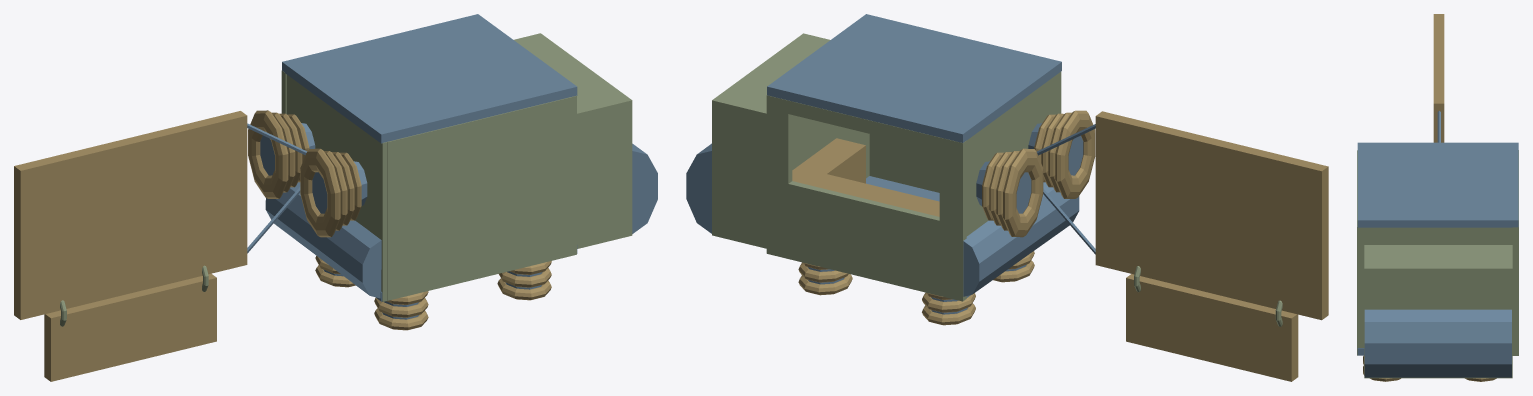
Rendered from food_truck_v11.fbx.
3 renders of one model, left to right at view 1: azimuth 30°, elevation 25°; view 2: azimuth 150°, elevation 25°; view 3: azimuth 270°, elevation 25°, orthographic. The views are drawn at different scales.
Parts seen in each view (by area): view 1: truck_sign_large, wall_B, roof, truck_sign_small, cab, wall_L, backbumper, tire_bot_2 (×2), tire_bot_1 (×4), tire_mid_1 (×3), frontbumper, wheel_well_1 (×2) (+2 smaller); view 2: truck_sign_large, wall_F, roof, truck_sign_small, cab, backbumper, tire_bot_2 (×2), wall_L, wall_B, tire_bot_1 (×4), counter_R, wall_R (+6 smaller); view 3: roof, frontbumper, cab, wall_R, truck_sign_large, wall_F.
Boxes of the visible parts, left/top/right/bottom form: truck_sign_large: left=14, top=111, right=247, bottom=319; wall_B: left=387, top=97, right=571, bottom=300; roof: left=282, top=14, right=577, bottom=143; truck_sign_small: left=44, top=273, right=216, bottom=381; cab: left=514, top=33, right=632, bottom=248; wall_L: left=286, top=75, right=388, bottom=301; backbumper: left=265, top=182, right=381, bottom=298; tire_bot_2 (×2): left=248, top=110, right=340, bottom=237; tire_bot_1 (×4): left=272, top=112, right=551, bottom=330; tire_mid_1 (×3): left=332, top=152, right=551, bottom=317; frontbumper: left=632, top=143, right=657, bottom=233; wheel_well_1 (×2): left=260, top=123, right=367, bottom=213; truck_sign_large: left=1095, top=111, right=1328, bottom=320; wall_F: left=766, top=95, right=966, bottom=301; roof: left=767, top=14, right=1061, bottom=142; truck_sign_small: left=1126, top=274, right=1298, bottom=381; cab: left=712, top=33, right=830, bottom=248; backbumper: left=963, top=182, right=1079, bottom=296; tire_bot_2 (×2): left=1003, top=110, right=1095, bottom=237; wall_L: left=966, top=71, right=1061, bottom=236; wall_B: left=869, top=134, right=939, bottom=192; tire_bot_1 (×4): left=798, top=112, right=1071, bottom=325; counter_R: left=792, top=138, right=865, bottom=185; wall_R: left=792, top=115, right=869, bottom=178; roof: left=1357, top=142, right=1518, bottom=227; frontbumper: left=1364, top=309, right=1511, bottom=377; cab: left=1364, top=245, right=1512, bottom=378; wall_R: left=1357, top=225, right=1512, bottom=355; truck_sign_large: left=1433, top=14, right=1444, bottom=142; wall_F: left=1512, top=150, right=1518, bottom=355.
Size of the model in its own units: 8.86 by 3.11 by 2.58.
